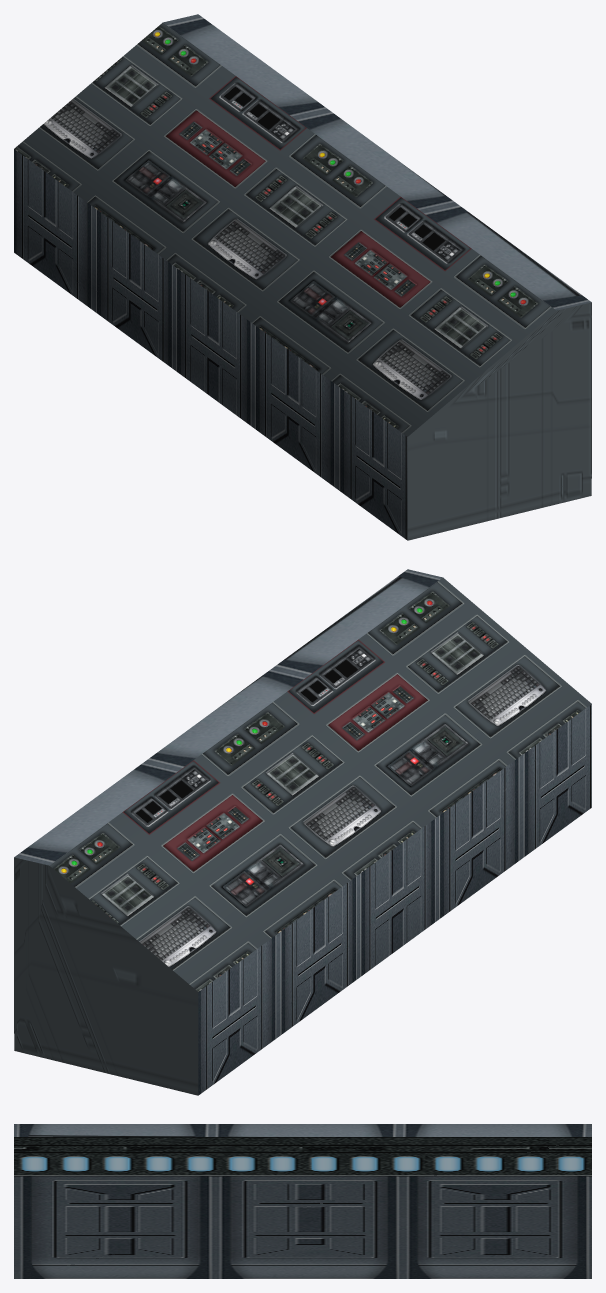
File: prop_comp.gltf
3 renders of one model, top to bottom at view 1: azimuth 30°, elevation 25°; view 2: azimuth 150°, elevation 25°; view 3: azimuth 270°, elevation 25°, orthographic. The views are drawn at different scales.
Visible parts, largest first — view 1: cube40; view 2: cube40; view 3: cube40.
Part boxes in pixels (x1,y1,x2,y2): cube40: (14, 14, 591, 540); cube40: (14, 569, 591, 1095); cube40: (14, 1124, 591, 1278).
Size of the model in its own units: 2.16 by 2.17 by 8.
Materials: 5 (5 with a texture image).
